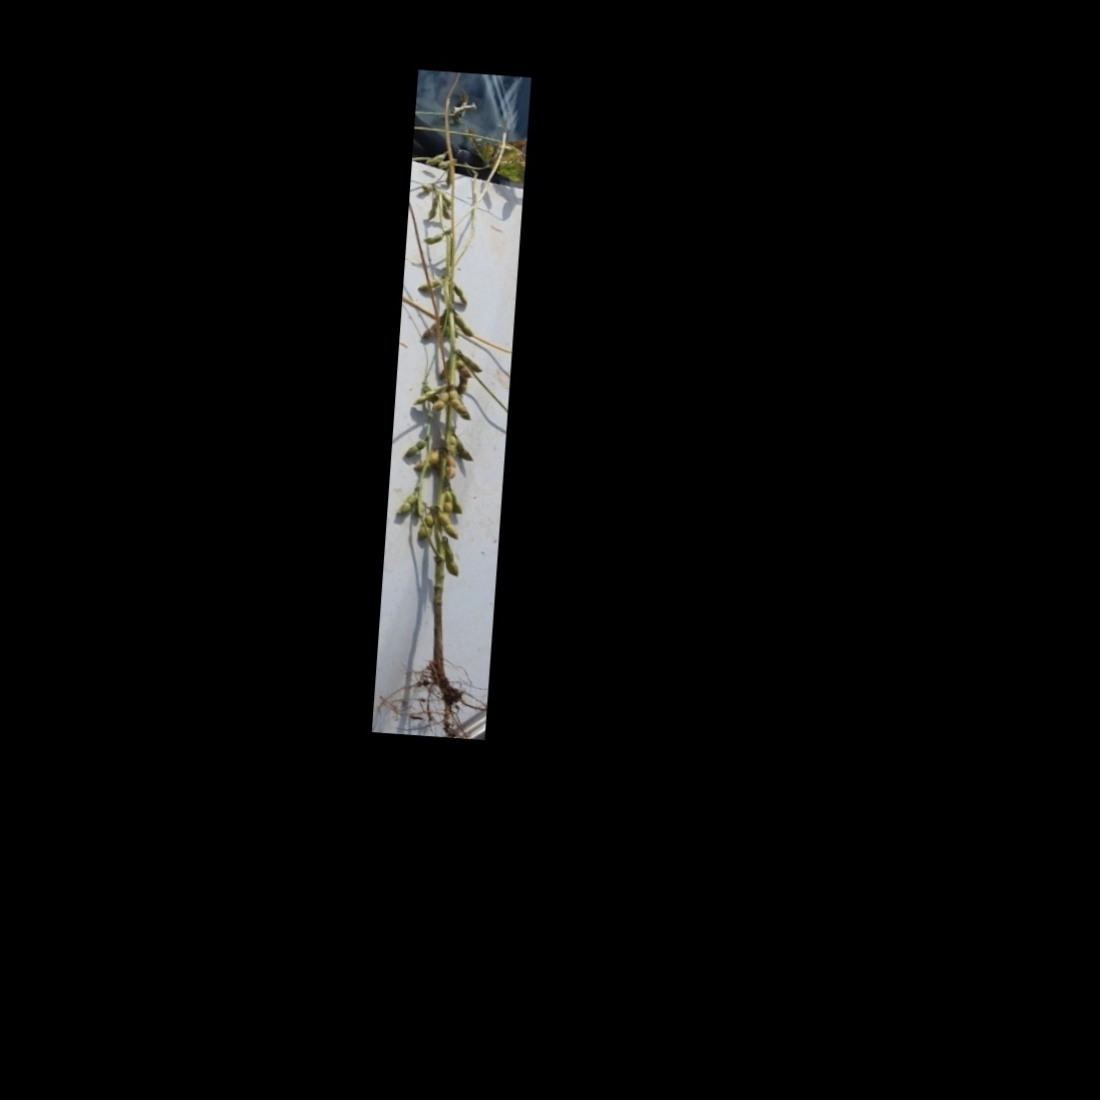pod: (440, 542, 463, 578), (410, 384, 444, 408), (413, 448, 441, 476), (394, 489, 419, 517), (437, 513, 461, 542), (402, 437, 429, 459), (416, 511, 434, 541), (415, 276, 442, 292), (424, 150, 448, 168), (452, 284, 470, 306), (425, 196, 440, 222), (432, 391, 449, 413), (445, 452, 457, 482), (440, 490, 454, 514), (421, 232, 443, 246)
soy: (379, 101, 523, 711)
